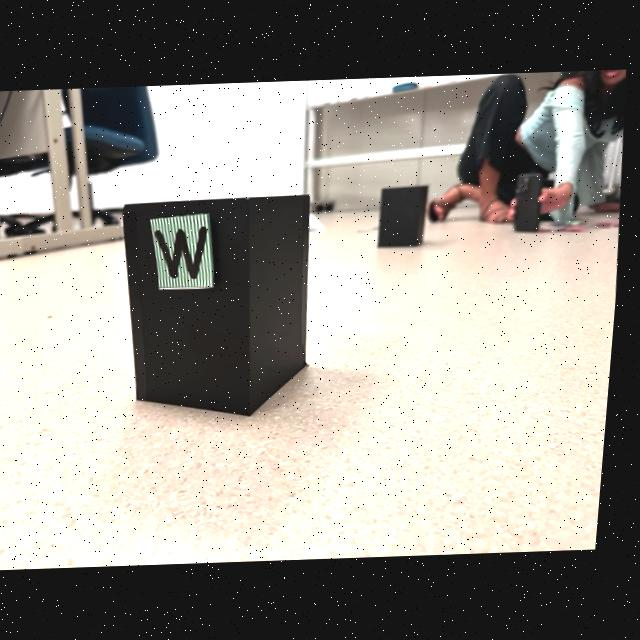W: (158, 226, 209, 277)
